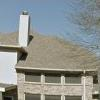Chimney: (12, 7, 40, 47)
